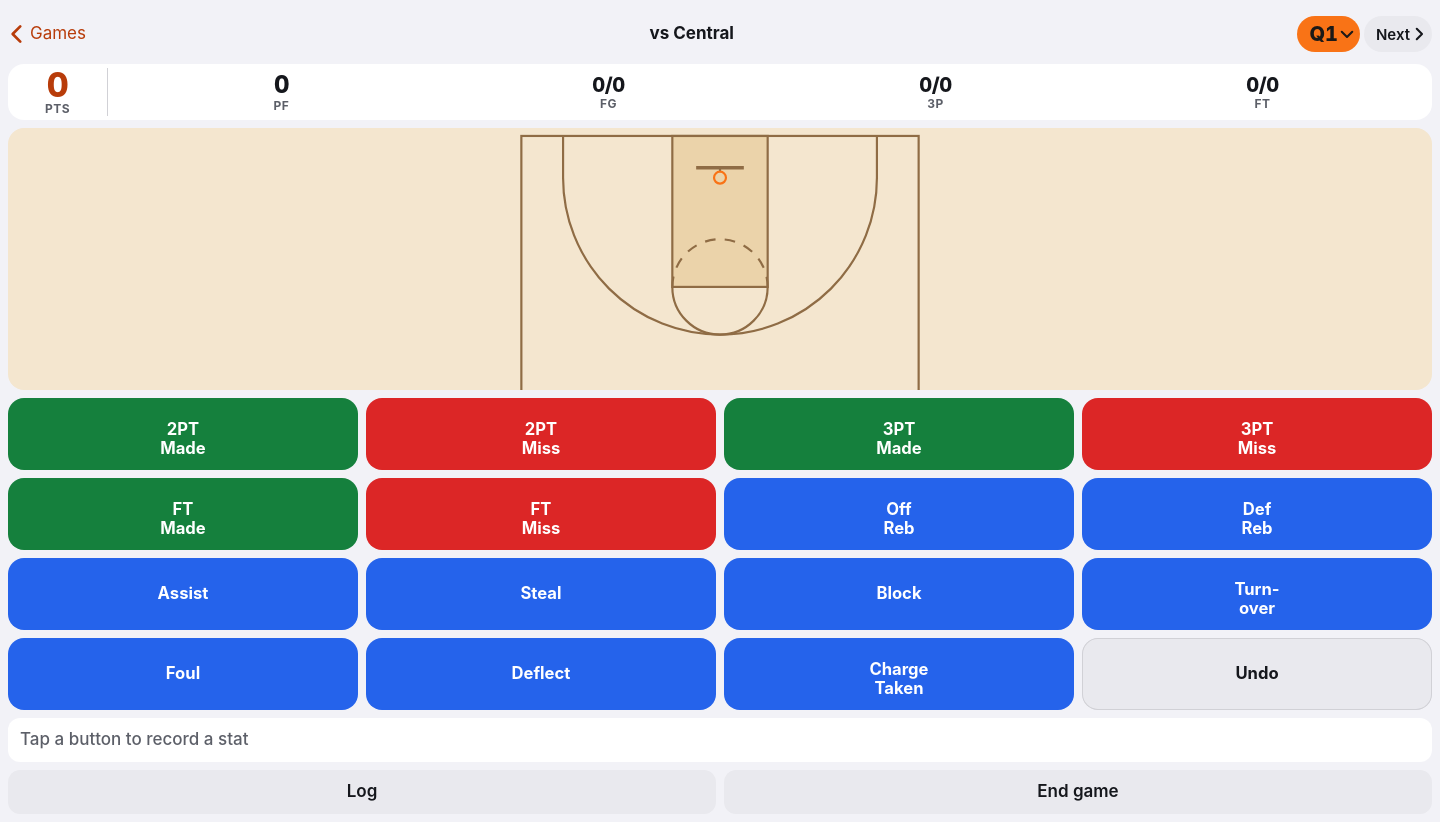
Scenario: TrackGameScreen › the grid's Undo removes the latest stat, or says there's nothing to undo
Expected: the element named "Record a stat" is shown, [8,398,1432,710]
Click the button with aria-label "Undo last stat".
click(1257, 674)  # box [1082,638,1432,710]
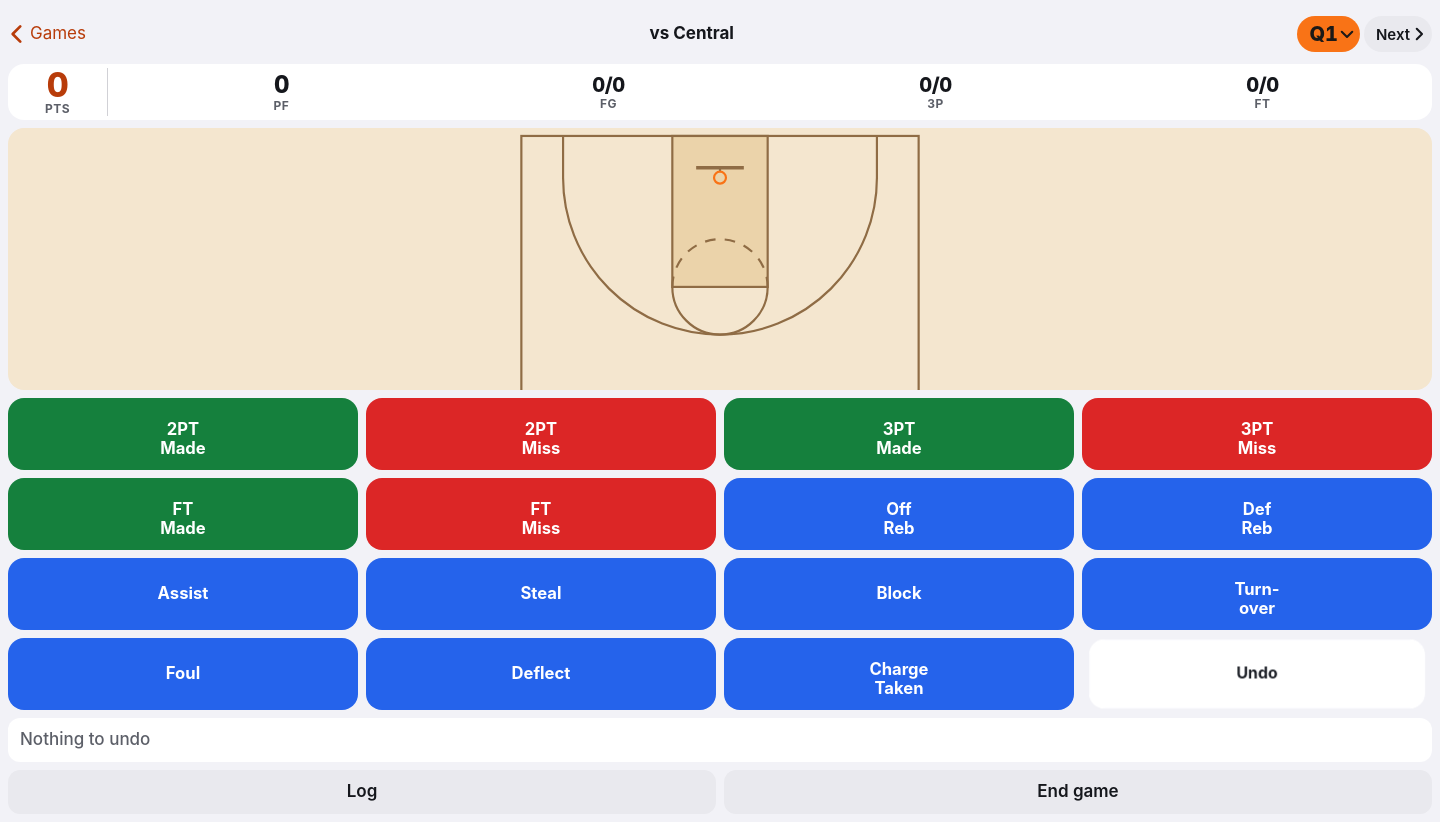
Expected: the message named "Last action" reads "Nothing to undo", [20,729,150,749]
Click the button "Block".
click(899, 594)  # box [724,558,1074,630]
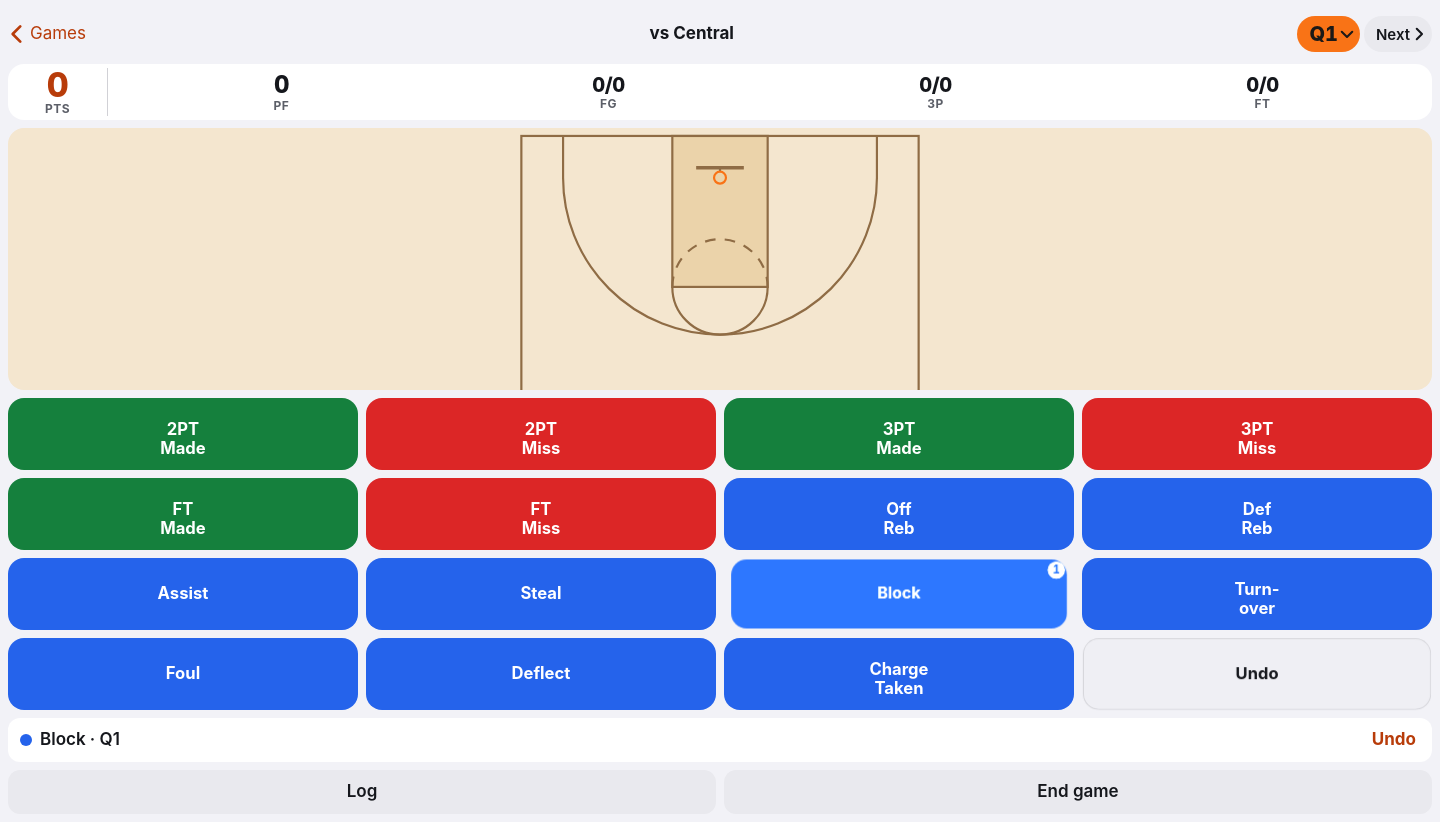
Click the button "Foul".
click(183, 674)  # box [8,638,358,710]
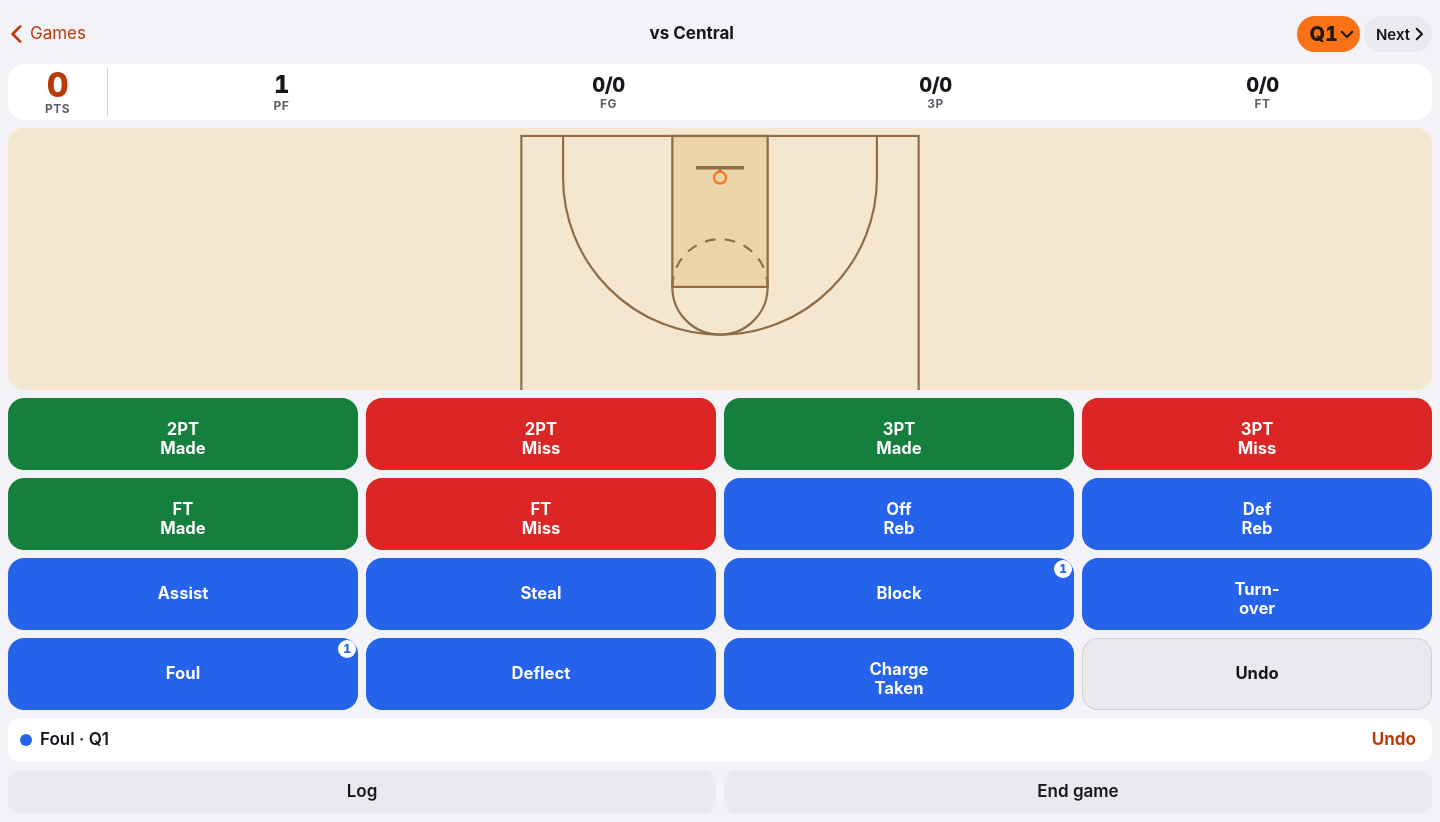
Click the button with aria-label "Undo last stat".
click(1257, 674)  # box [1082,638,1432,710]
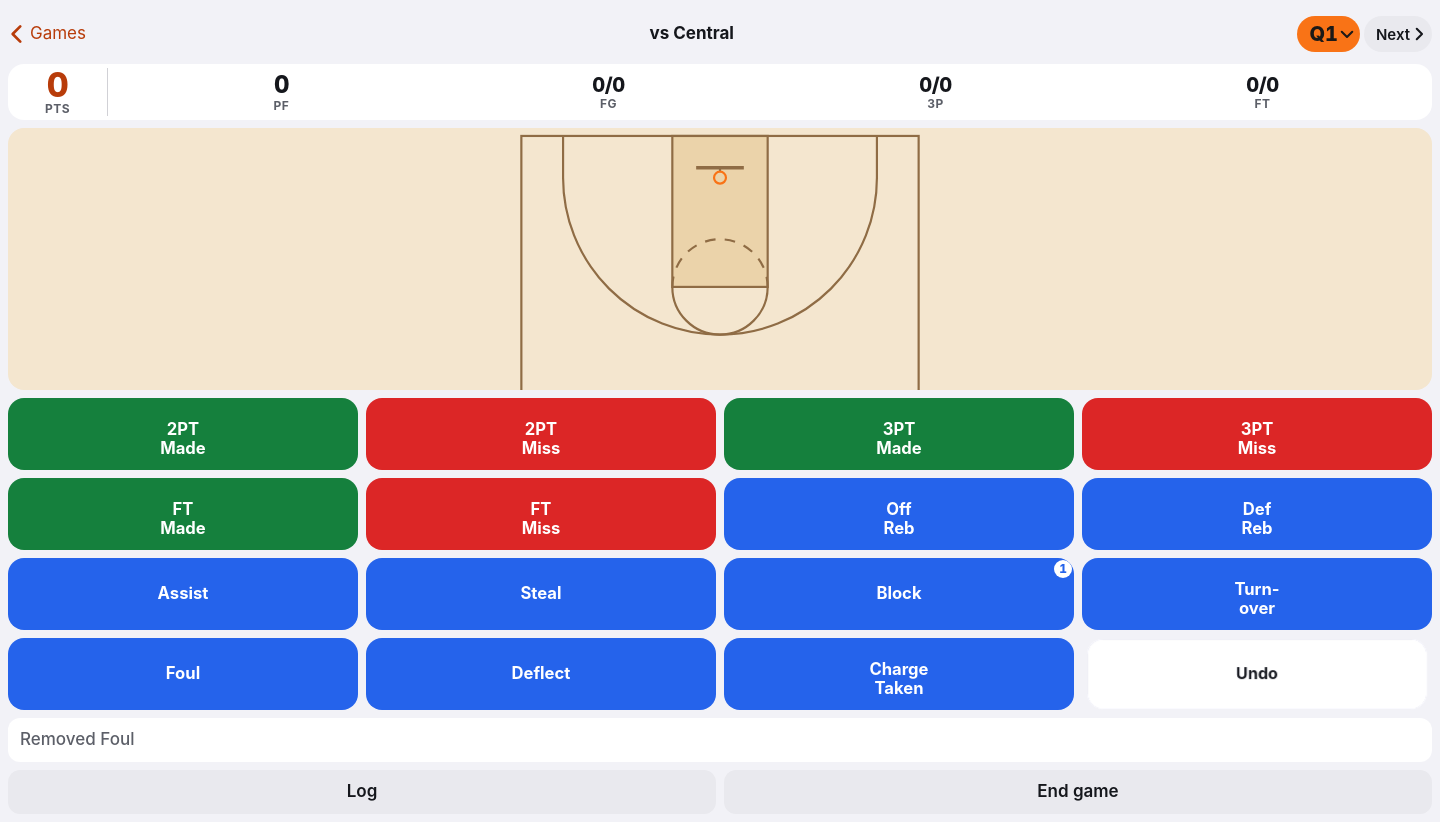
Expected: the message named "Last action" reads "Removed Foul", [20,729,134,749]
